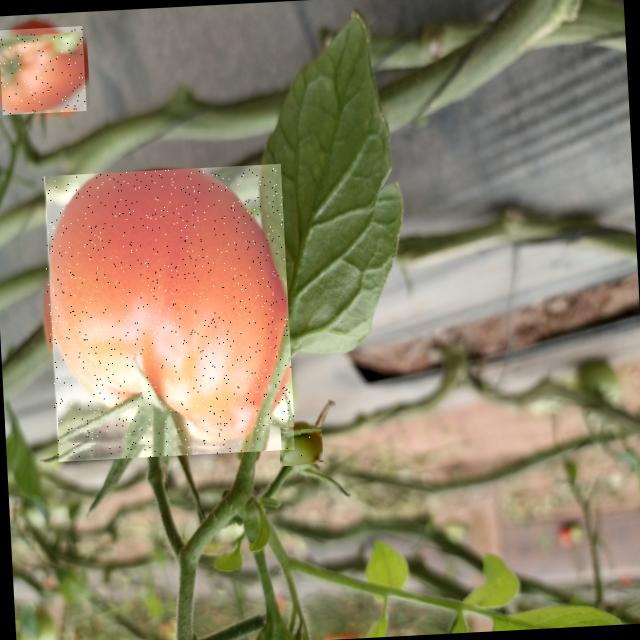Ripe Tomato: (41, 164, 296, 462), (0, 26, 86, 115)
Unripe Tomato: (280, 425, 322, 466)
